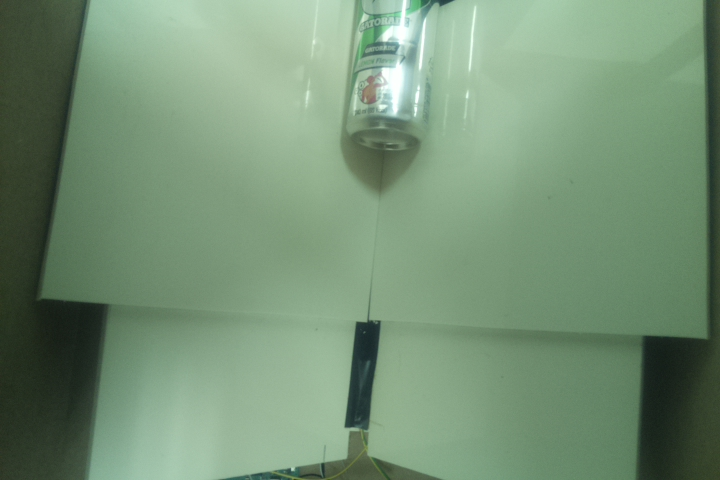can: (338, 1, 445, 155)
